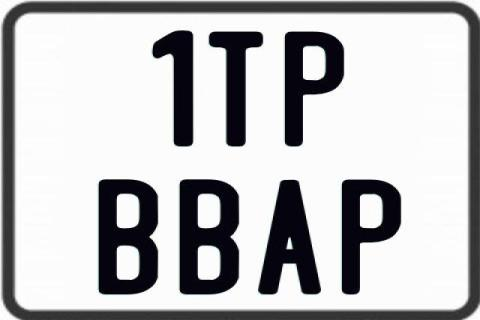0: (150, 29, 194, 145)
A: (255, 178, 321, 296)
B: (96, 178, 157, 298), (180, 180, 243, 296)
P: (283, 29, 345, 144), (342, 179, 402, 295)
T: (208, 29, 268, 144)
